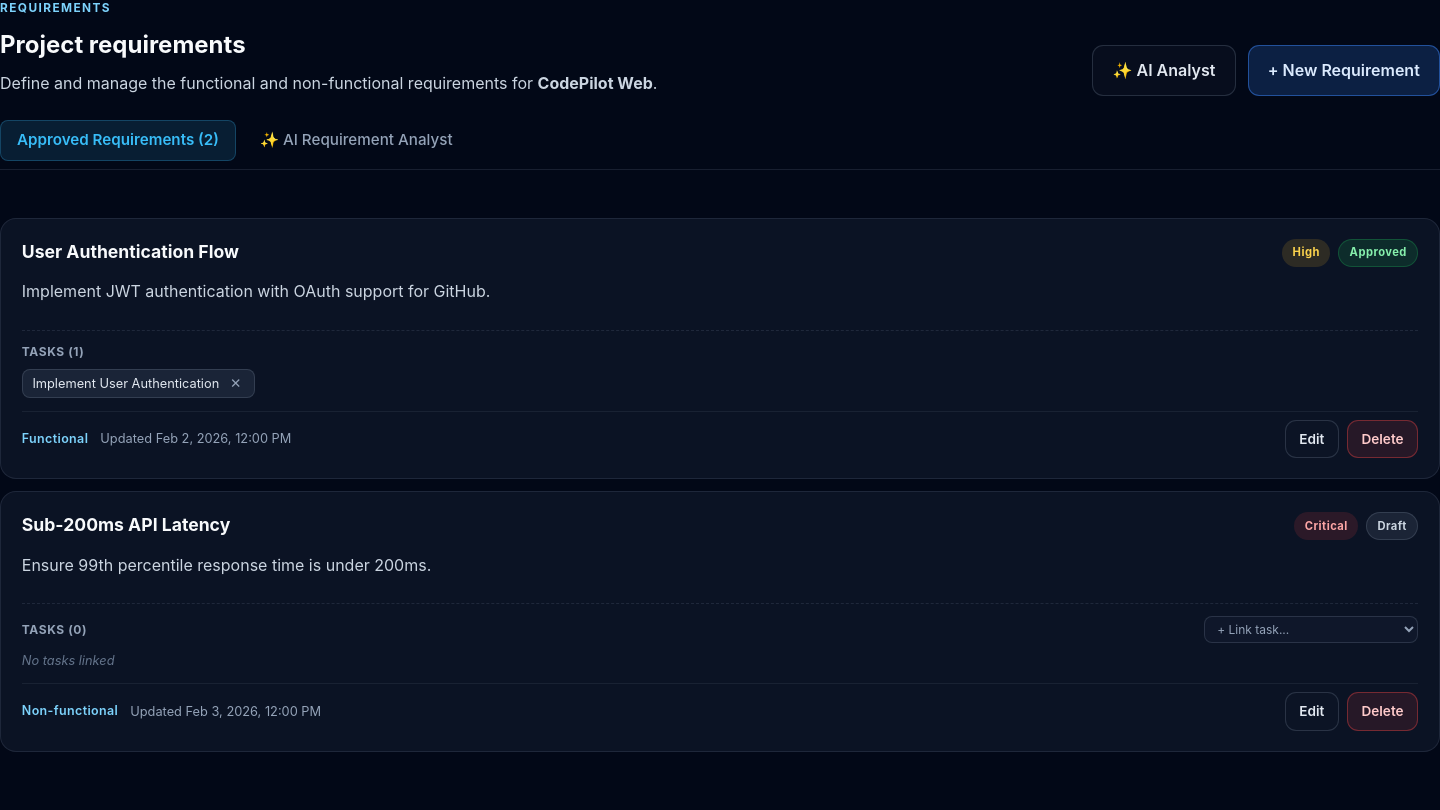
Test case: RequirementsPage › requires delete confirmation and removes requirement on confirm
The width and height of the screenshot is (1440, 810).
Expected: the heading "User Authentication Flow" is shown, x1=22 y1=241 x2=239 y2=262
Click the button named "Delete User Authentication Flow" at (1383,439), box x1=1347 y1=420 x2=1418 y2=458
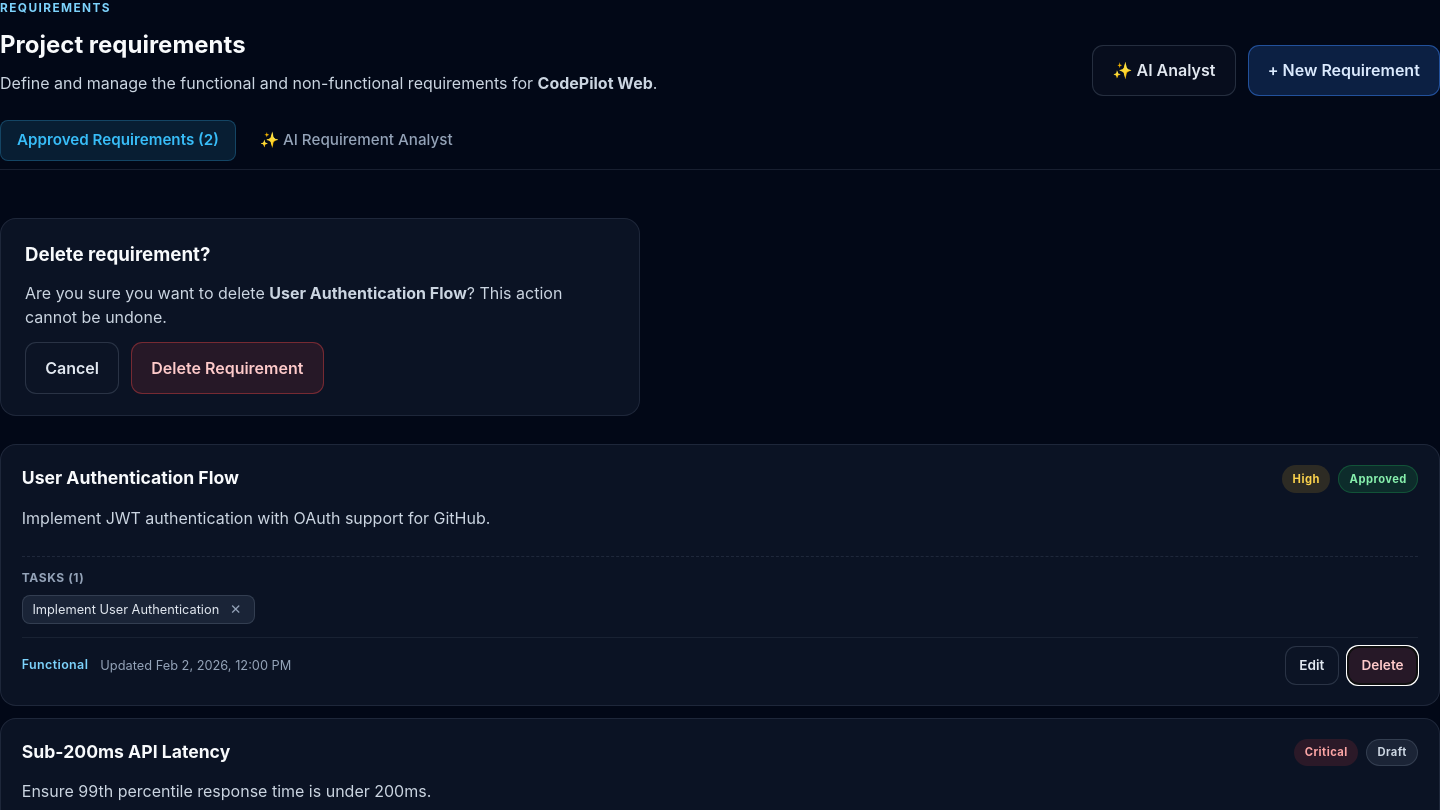
Expected: the heading "Delete requirement?" is shown, x1=25 y1=242 x2=210 y2=266
Expected: the text "Are you sure you want to delete" is shown, x1=25 y1=283 x2=269 y2=303
Note: Confirm deletion
Click the button "Delete Requirement" at (227,368), box x1=131 y1=342 x2=324 y2=394
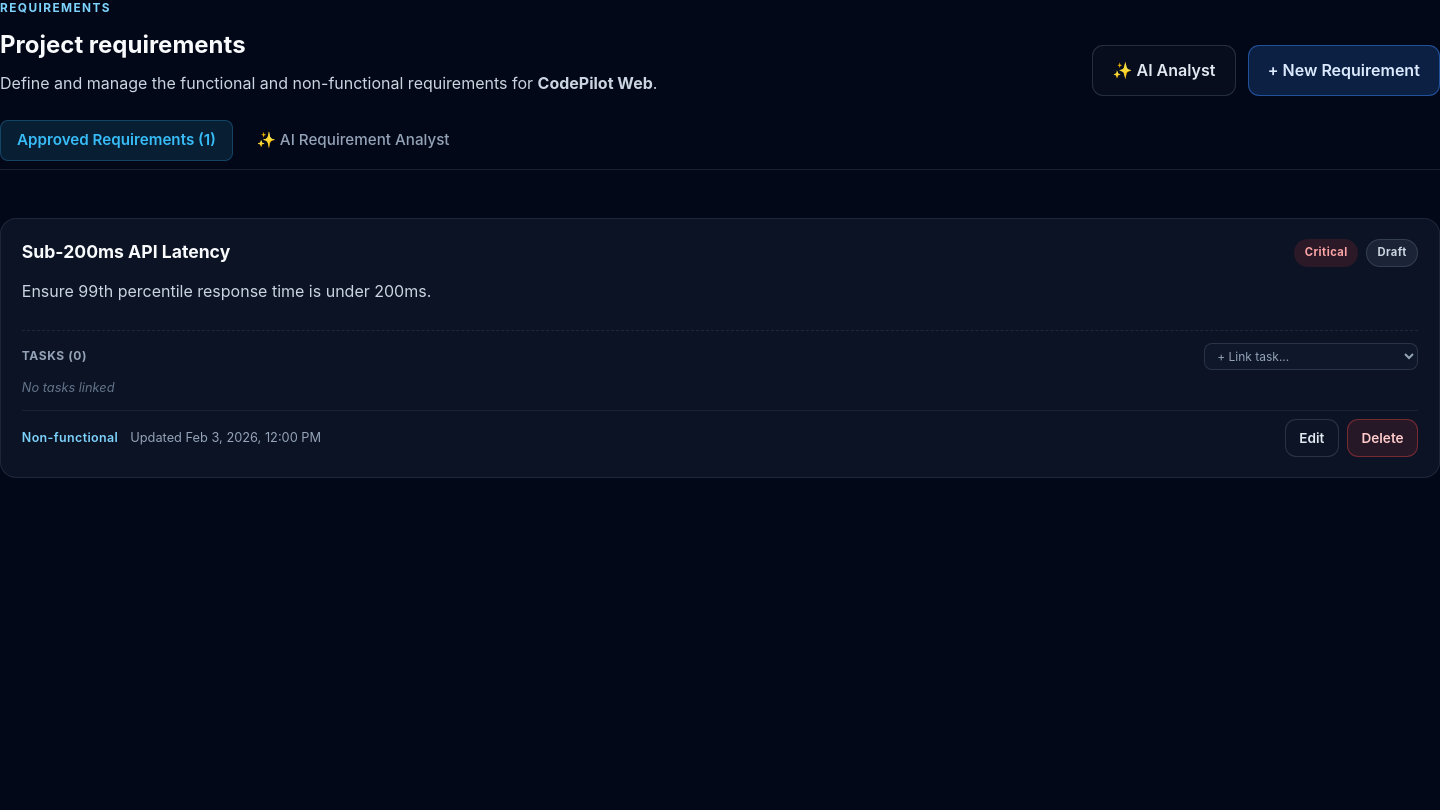
Expected: the heading "Sub-200ms API Latency" is shown, x1=22 y1=241 x2=230 y2=262
Expected: the text "User Authentication Flow" is gone
